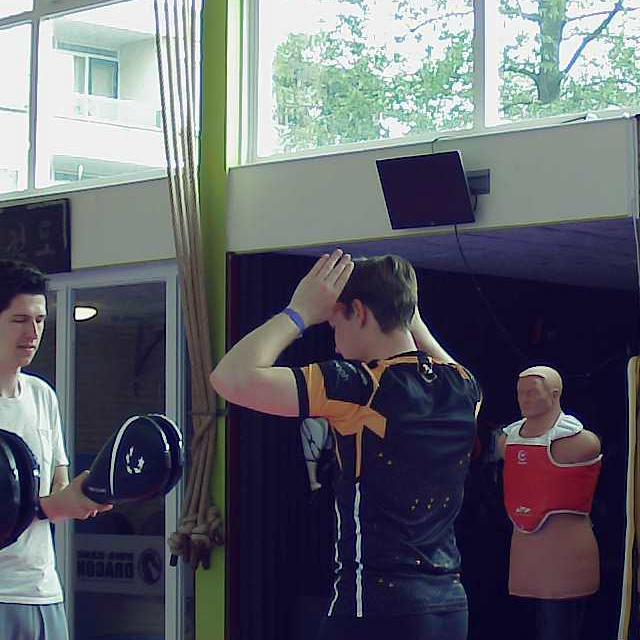paddle: (78, 412, 183, 506), (0, 427, 40, 562)
